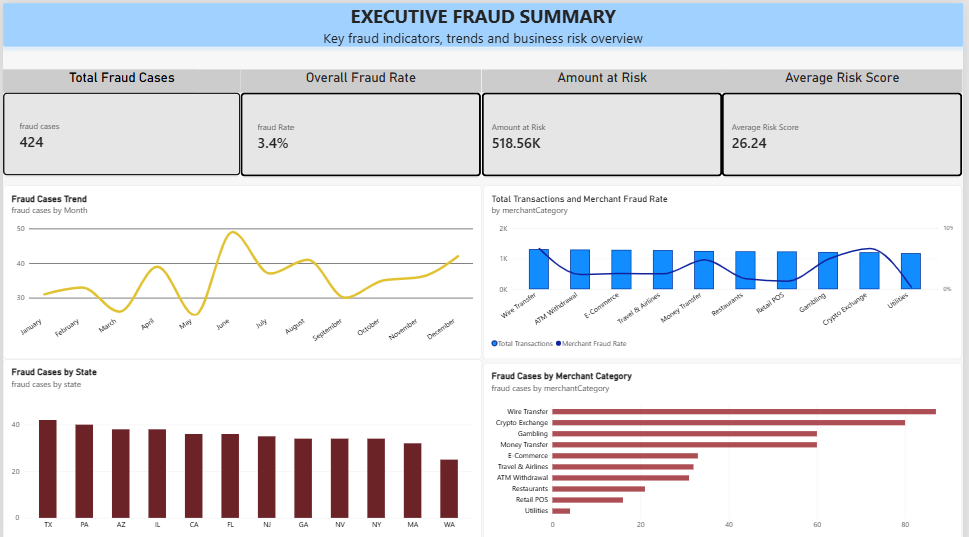

This screenshot's page, from the dashboard's own definition file:
{"tool":"powerbi","page":{"name":"Executive Summary ","canvas":[1920,1080],"ordinal":4},"visuals":[{"type":"cardVisual","title":"Total Fraud Cases","fields":{"Data":["fraud_transactions.fraud cases"]},"box":[0,131.7,475,213.3],"z":0},{"type":"cardVisual","title":"Overall Fraud Rate","fields":{"Data":["fraud_transactions.fraud Rate"]},"box":[475,131.7,481.7,215],"z":1000},{"type":"cardVisual","title":"Amount at Risk","fields":{"Data":["fraud_transactions.Amount at Risk"]},"box":[956.7,133.3,481.7,215],"z":2000},{"type":"cardVisual","title":"Average Risk Score","fields":{"Data":["fraud_transactions.Average Risk Score"]},"box":[1438.3,131.7,481.7,215],"z":3000},{"type":"clusteredBarChart","title":"Fraud Cases by Merchant Category","fields":{"Category":["fraud_transactions.merchantCategory"],"Y":["fraud_transactions.fraud cases"]},"box":[960,720,957.5,355],"z":4000},{"type":"clusteredColumnChart","title":"Fraud Cases by State","fields":{"Category":["fraud_transactions.state"],"Y":["fraud_transactions.fraud cases"]},"box":[0,712.5,957.5,362.5],"z":5000},{"type":"lineChart","title":"Fraud Cases Trend","fields":{"Category":["fraud_transactions.date.Variation.Date Hierarchy.Month"],"Y":["fraud_transactions.fraud cases"]},"box":[0,365,957.5,347.5],"z":6000},{"type":"lineClusteredColumnComboChart","fields":{"Category":["fraud_transactions.merchantCategory"],"Y":["fraud_transactions.Total Transactions"],"Y2":["fraud_transactions.Merchant Fraud Rate"]},"box":[960,365,957.5,347.5],"z":7000},{"type":"textbox","title":"Executive Fraud Summary","box":[0,0,1920.8,87.5],"z":8000}]}

Visuals, with their boxes in screenshot pixels (x1, y1, x2, y2), scaled from the page's 1920x1080 canvas onto the 969x537 screenshot:
"Total Fraud Cases" cardVisual: bbox=(0, 65, 240, 172)
"Overall Fraud Rate" cardVisual: bbox=(240, 65, 483, 172)
"Amount at Risk" cardVisual: bbox=(483, 66, 726, 173)
"Average Risk Score" cardVisual: bbox=(726, 65, 968, 172)
"Fraud Cases by Merchant Category" clusteredBarChart: bbox=(484, 358, 968, 535)
"Fraud Cases by State" clusteredColumnChart: bbox=(0, 354, 483, 535)
"Fraud Cases Trend" lineChart: bbox=(0, 181, 483, 354)
lineClusteredColumnComboChart - fraud_transactions.merchantCategory x fraud_transactions.Total Transactions: bbox=(484, 181, 968, 354)
"Executive Fraud Summary" textbox: bbox=(0, 0, 968, 44)
